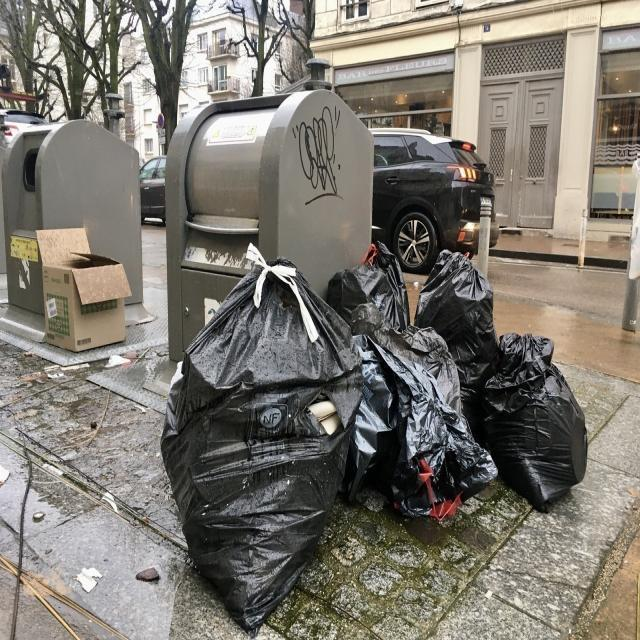Trashbag: (160, 253, 357, 622), (364, 328, 484, 516), (488, 330, 594, 503), (424, 242, 494, 328), (359, 254, 408, 324)
